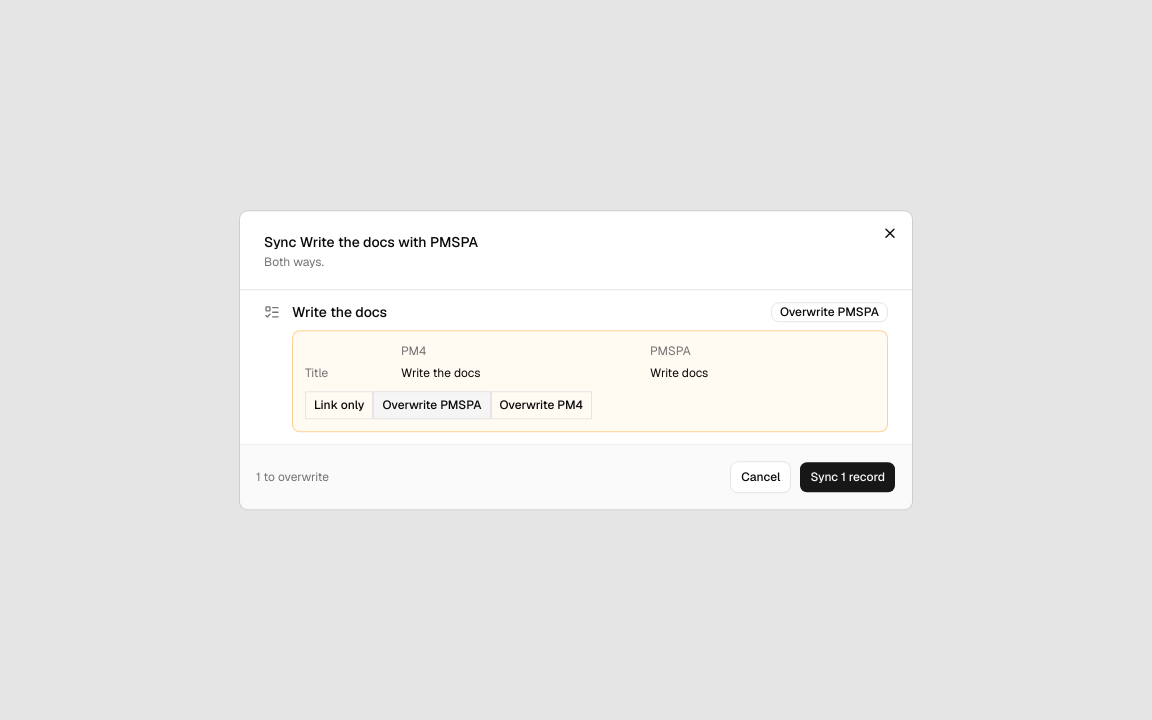
Scenario: SyncPreviewDialog (feat-int-web) › AC-7 FR-INT-012, OQ-173, OQ-174: a differs row preselects its direction; Link only writes nothing; Overwrite PMSPA sends the link choice; the result shows old →
Check: the button "Sync 1 record" is enabled, box top-left (799, 461), bottom-right (896, 493)
Click the button "Link only": coordinates (339, 405) top-left (305, 391), bottom-right (373, 419)
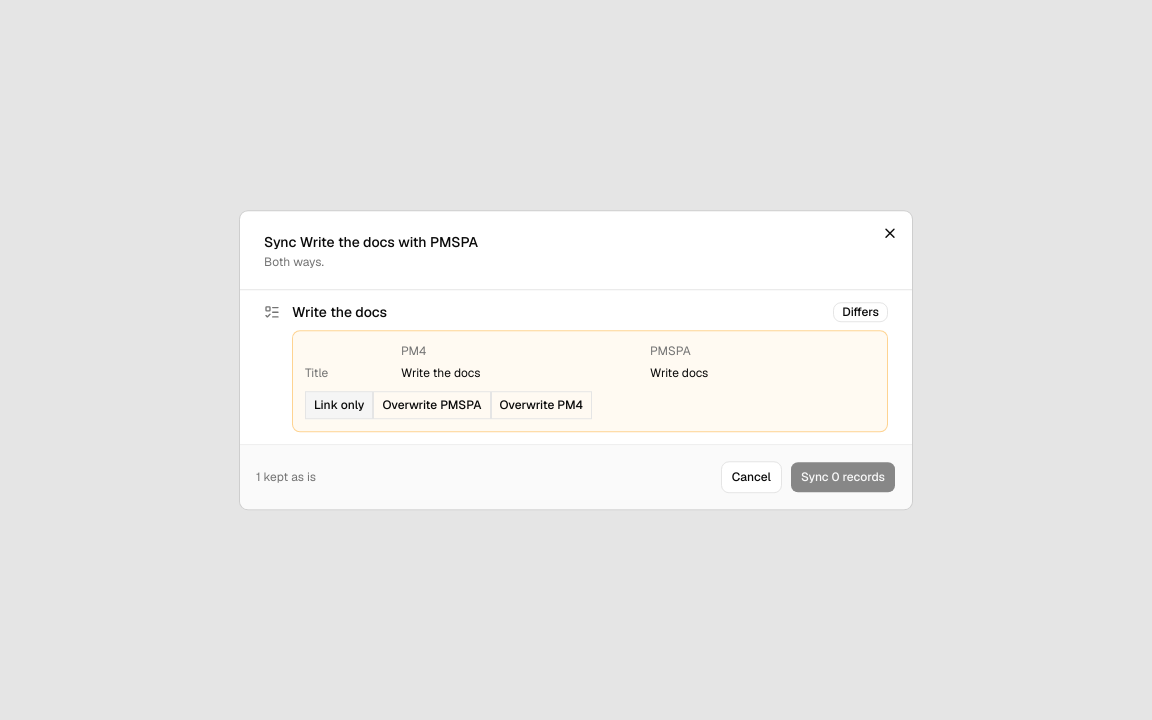
Check: the button "Sync 0 records" is disabled, box top-left (790, 461), bottom-right (896, 493)
Click the button "Overwrite PMSPA": coordinates (432, 405) top-left (373, 391), bottom-right (490, 419)
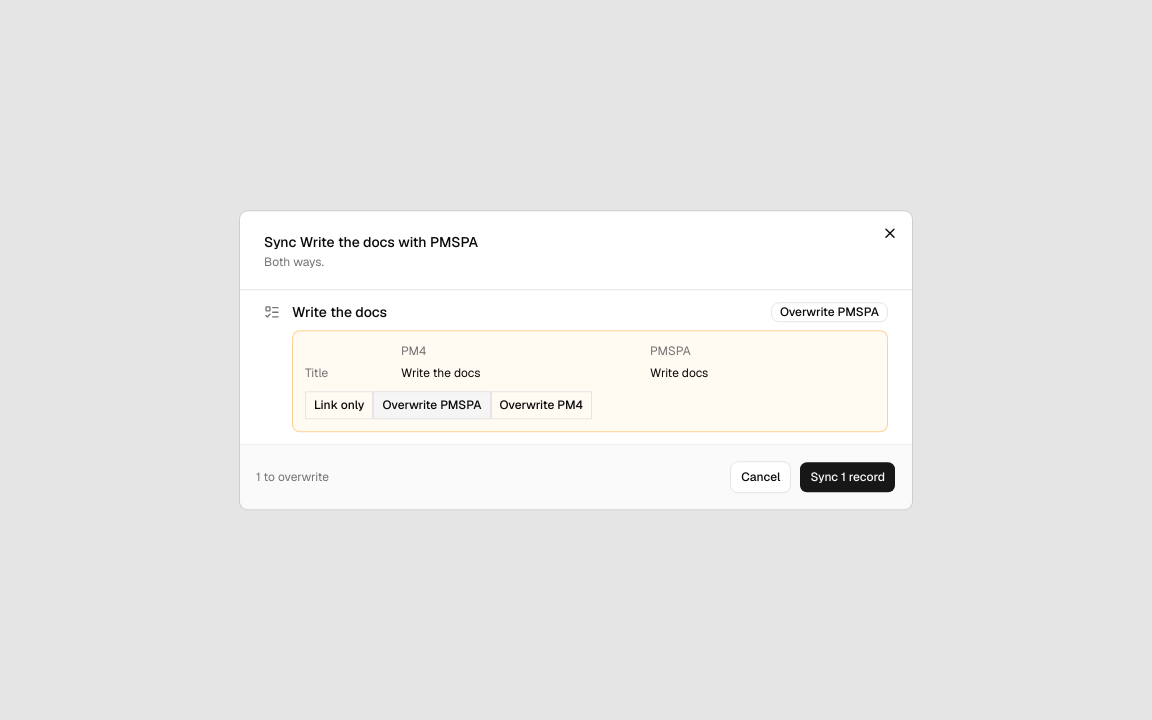
Check: the button "Sync 1 record" is enabled
Click the button "Sync 1 record": coordinates (848, 477) top-left (799, 461), bottom-right (896, 493)
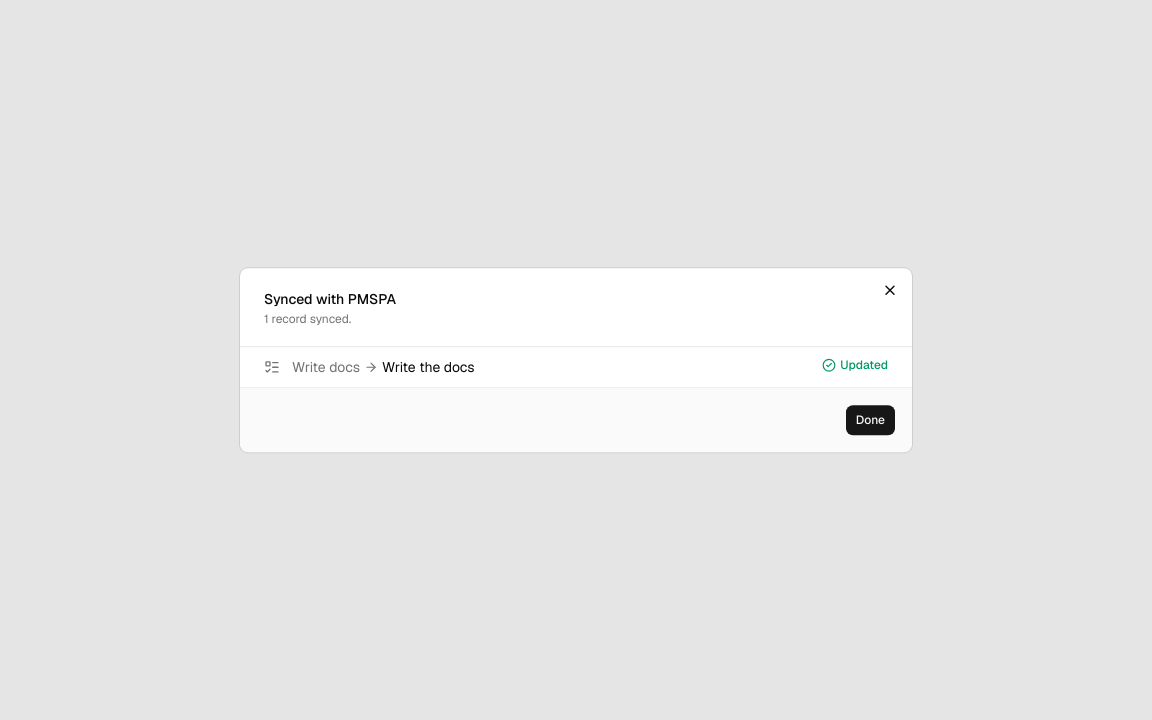
Check: the text "Write docs" is shown, box top-left (292, 358), bottom-right (360, 376)
Check: the icon named "renamed to" is shown, box top-left (364, 360), bottom-right (378, 374)
Check: the text "Write the docs" is shown, box top-left (382, 358), bottom-right (475, 376)
